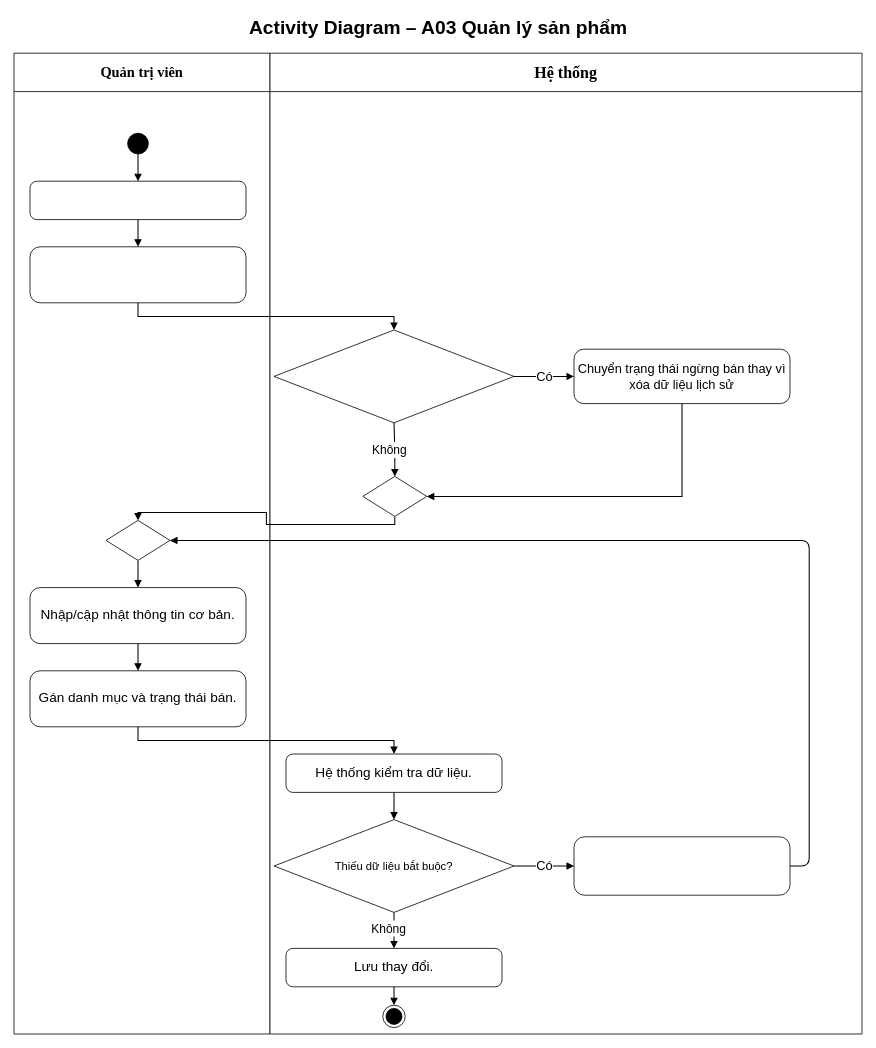
This 876x1048 diagram has some shape labels left out. The centre of each missing label's shape, as x and y in pixels:
Không lưu thay đổi: (x=681, y=865)
Mở danh sách sản phẩm.: (x=137, y=200)
Sản phẩm đã phát sinh đơn hàng?: (x=393, y=376)
Tìm/chọn sản phẩm hoặc tạo mới.: (x=137, y=274)
